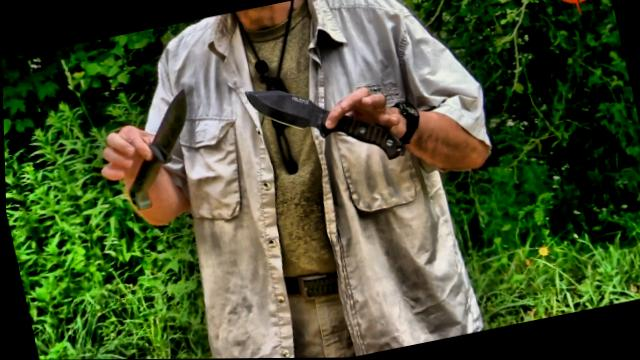knife: (238, 57, 410, 186), (105, 84, 210, 214)
